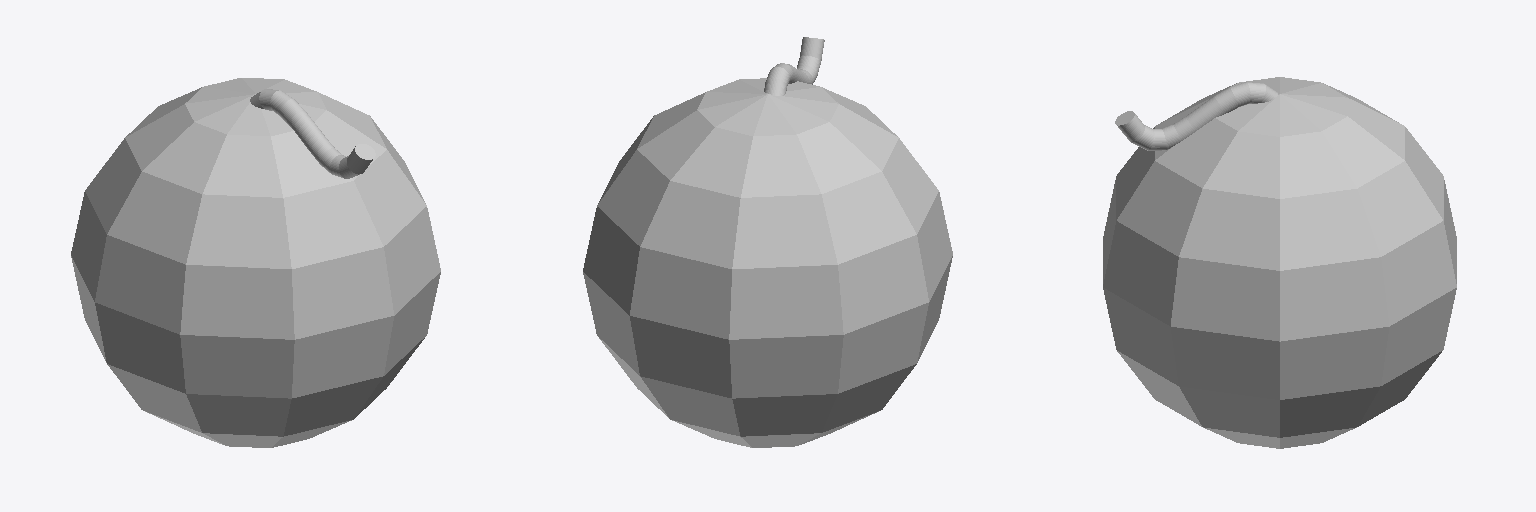
Rendered from Bomb.obj.
3 renders of one model, left to right at view 1: azimuth 30°, elevation 25°; view 2: azimuth 150°, elevation 25°; view 3: azimuth 270°, elevation 25°, orthographic.
Visible parts, largest first — view 1: Sphere_coll, Fuse; view 2: Sphere_coll, Fuse; view 3: Sphere_coll, Fuse.
Boxes of the visible parts, x1,y1,x2,y2 form: Sphere_coll: [71, 78, 440, 447]; Fuse: [250, 89, 375, 178]; Sphere_coll: [583, 78, 952, 447]; Fuse: [764, 37, 824, 95]; Sphere_coll: [1103, 77, 1456, 448]; Fuse: [1115, 82, 1277, 150].
Size of the model in its own units: 0.6 by 0.6246 by 0.5706.